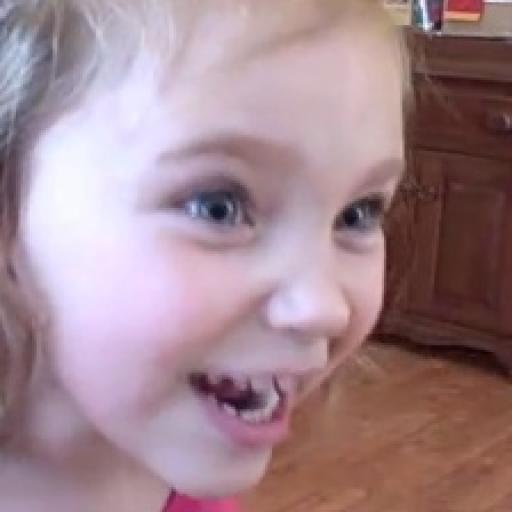Autism: (77, 6, 454, 510)
